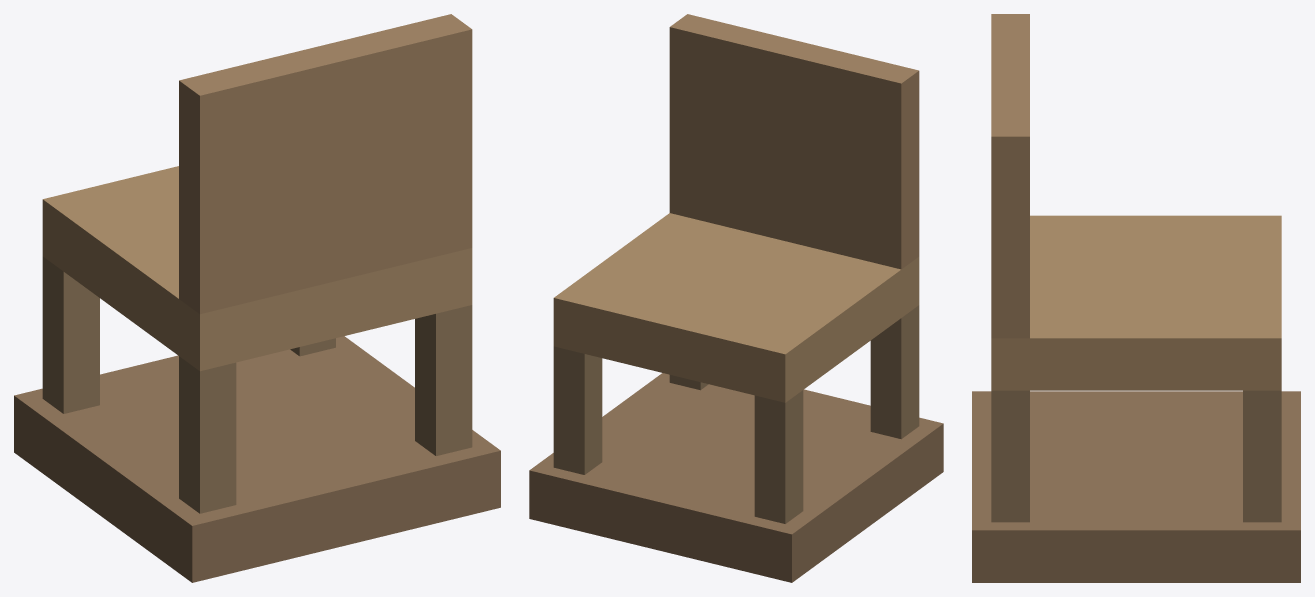
Rendered from chair.gltf.
3 renders of one model, left to right at view 1: azimuth 30°, elevation 25°; view 2: azimuth 150°, elevation 25°; view 3: azimuth 270°, elevation 25°, orthographic. The views are drawn at different scales.
Parts seen in each view (by area): view 1: chair; view 2: chair; view 3: chair.
Boxes of the visible parts, x1=… form: chair: x1=14, y1=14, x2=500, y2=582; chair: x1=529, y1=14, x2=943, y2=582; chair: x1=972, y1=14, x2=1300, y2=582.
Size of the model in its own units: 0.68 by 1 by 0.68.
